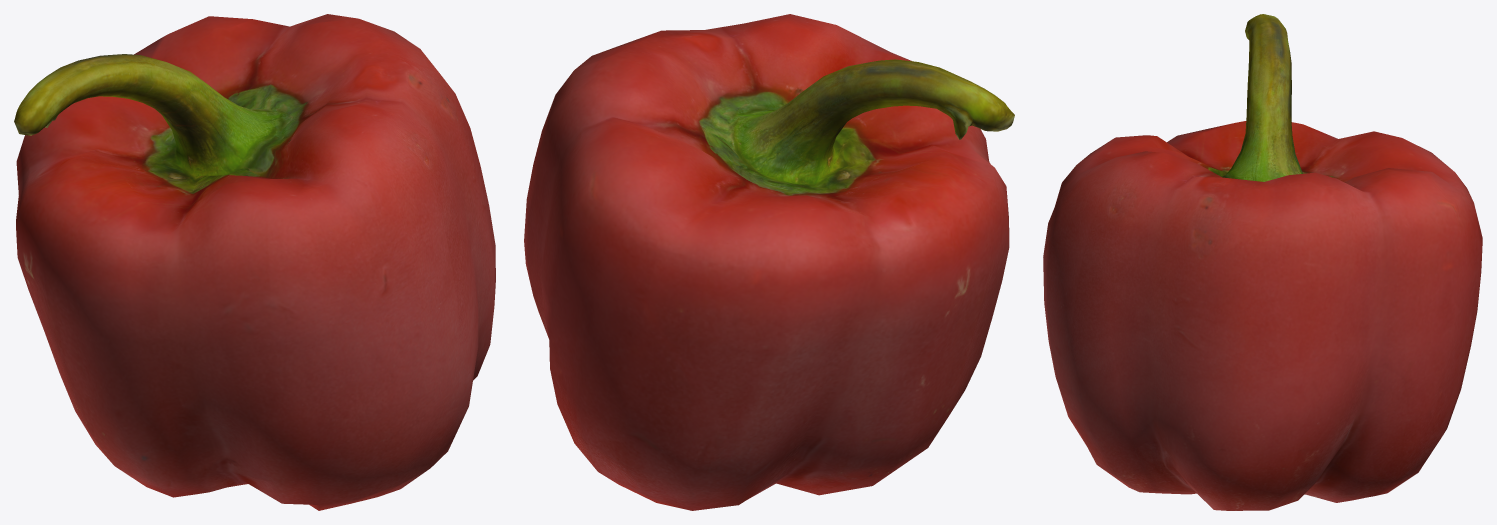
Rendered from pestify_3D.glb.
The picture shows the model from 3 angles, left to right: view 1: azimuth 30°, elevation 25°; view 2: azimuth 150°, elevation 25°; view 3: azimuth 270°, elevation 25°; orthographic projection. The views are drawn at different scales.
Visible parts, largest first — view 1: Box001; view 2: Box001; view 3: Box001.
Boxes of the visible parts, box(x1,y1,x2,y2) form: Box001: box(14, 14, 495, 510); Box001: box(524, 14, 1014, 510); Box001: box(1043, 14, 1482, 510).
Size of the model in its own units: 91.33 by 83.24 by 86.53.
1 material, 1 textured.
